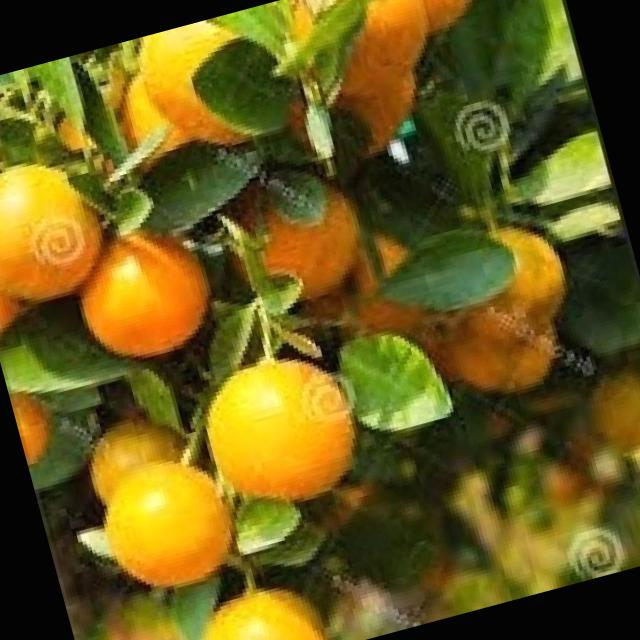Orange: (180, 320, 386, 522), (51, 192, 236, 383), (76, 422, 268, 602), (202, 136, 388, 318), (125, 0, 315, 169), (428, 197, 594, 356), (0, 132, 135, 315), (434, 275, 578, 413), (280, 0, 443, 117), (166, 559, 346, 640), (376, 0, 492, 42)
